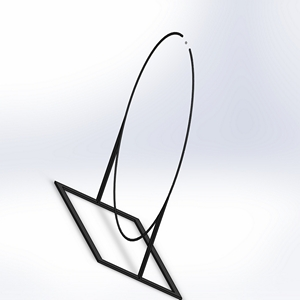circle: (53, 30, 196, 300)
